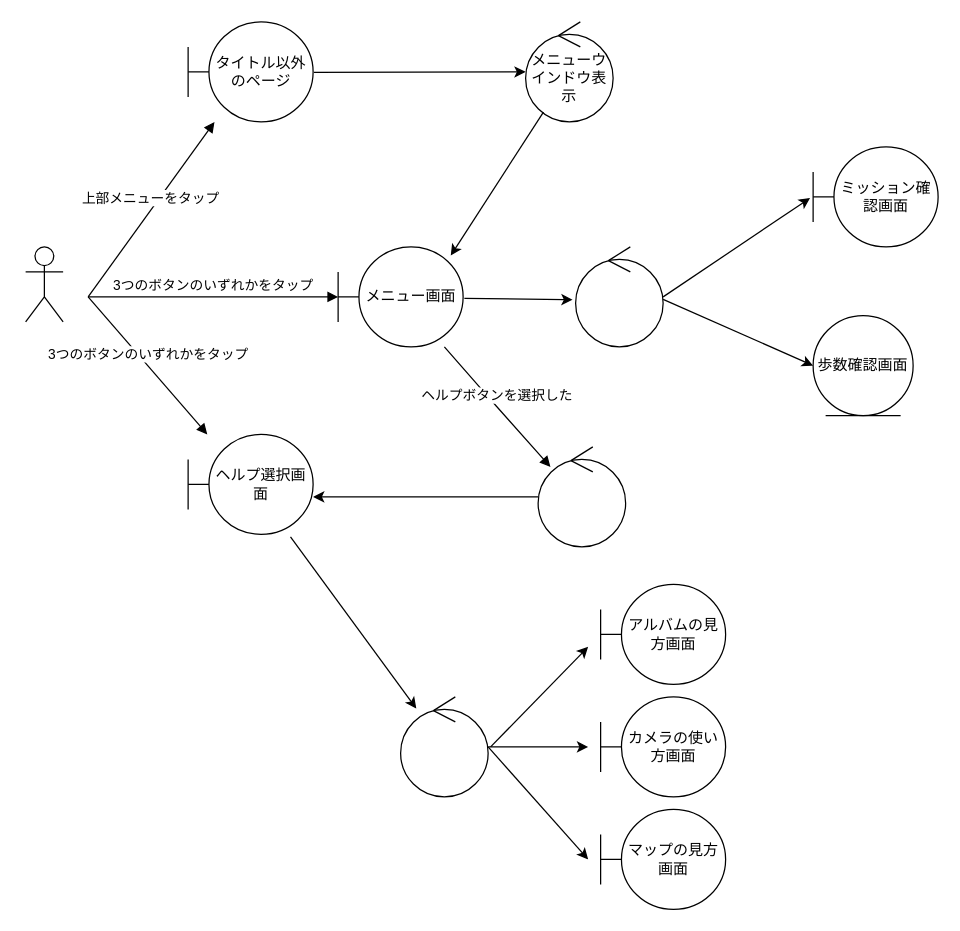
The diagram is 960 pixels wide and 931 high, and some of its shapes have lost their labels. Here are the shapes that lost their labels. From the top down, the centre of each, then its label:
At [43,284]: "ユーザ".
At [618,296]: "ミッション/歩数ウインドウ表示".
At [581,496]: "ヘルプ選択ウインドウを表示".
At [443,746]: "各チュートリアル画面表示".
